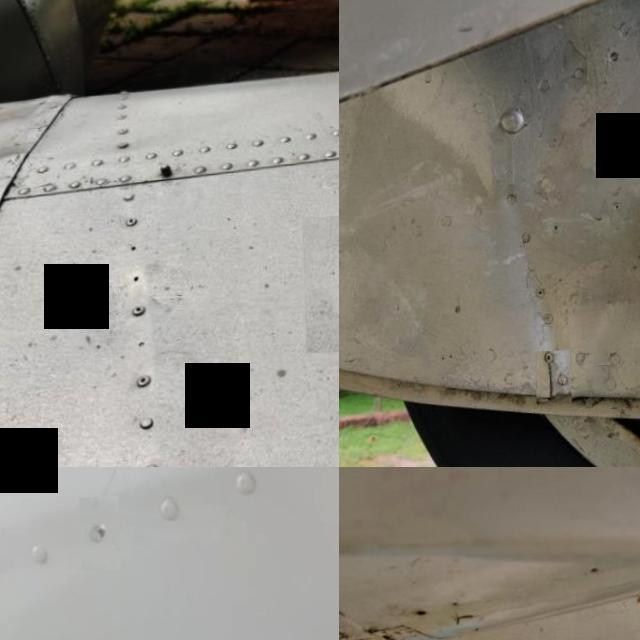Crack: (77, 498, 118, 574), (533, 353, 569, 408)
Dent: (300, 215, 339, 357)
